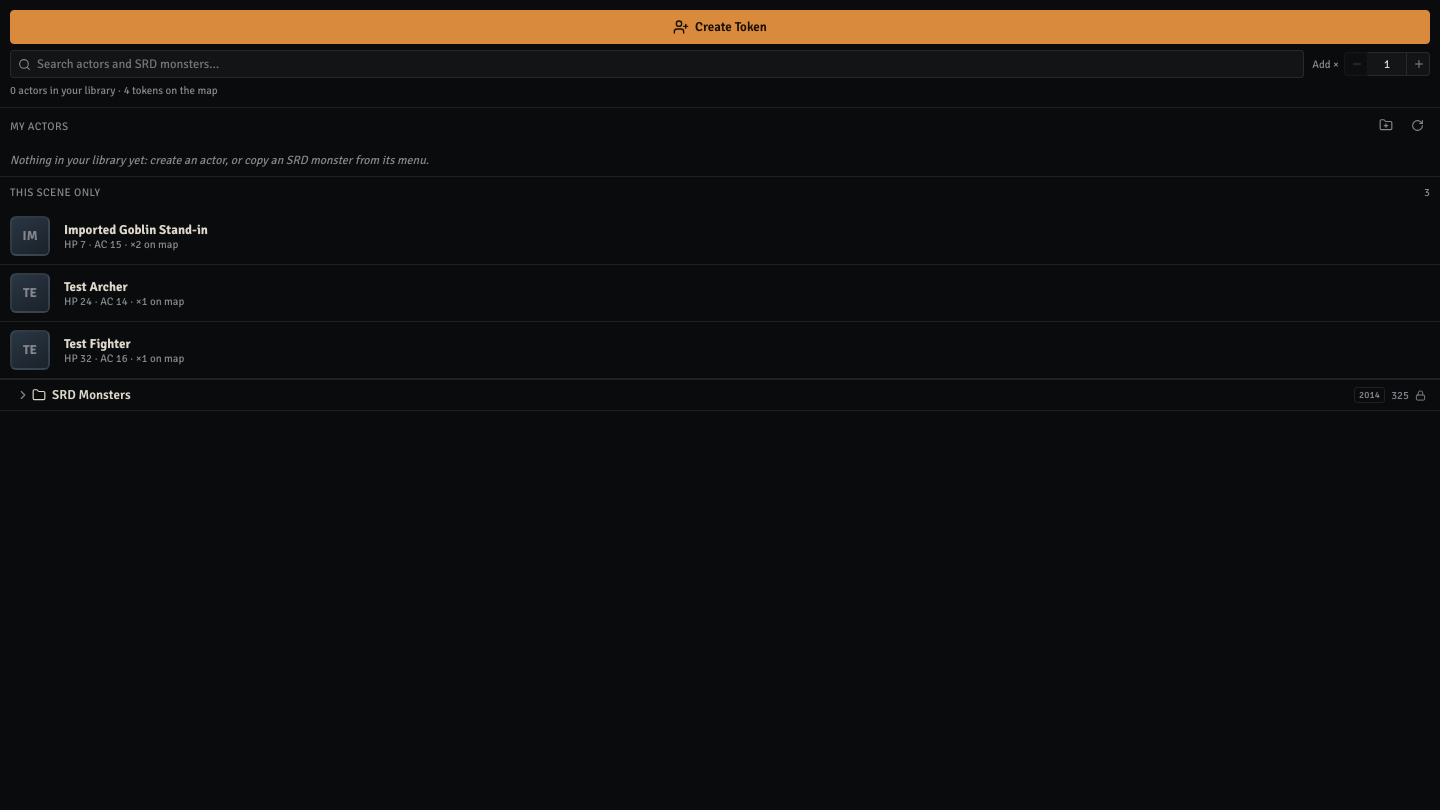
Test case: quantity stepper in the SRD Monsters folder › starts at 1, steps up and down, and stops at 1 and at the cap
The image size is (1440, 810).
Click the text "SRD Monsters". click: (91, 395)
box: [52, 387, 131, 403]
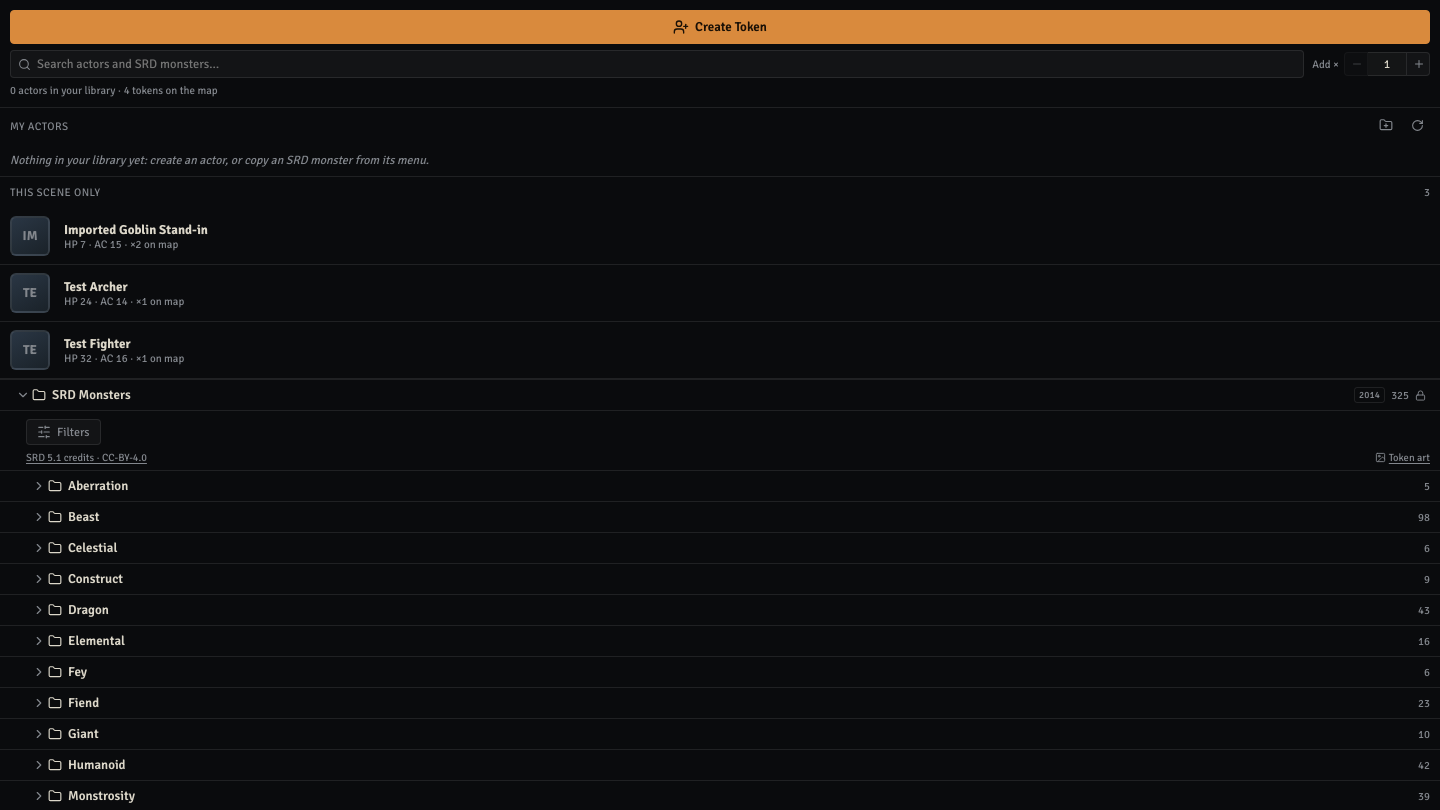
Click the text "Beast". click: (84, 517)
box: [68, 509, 100, 525]
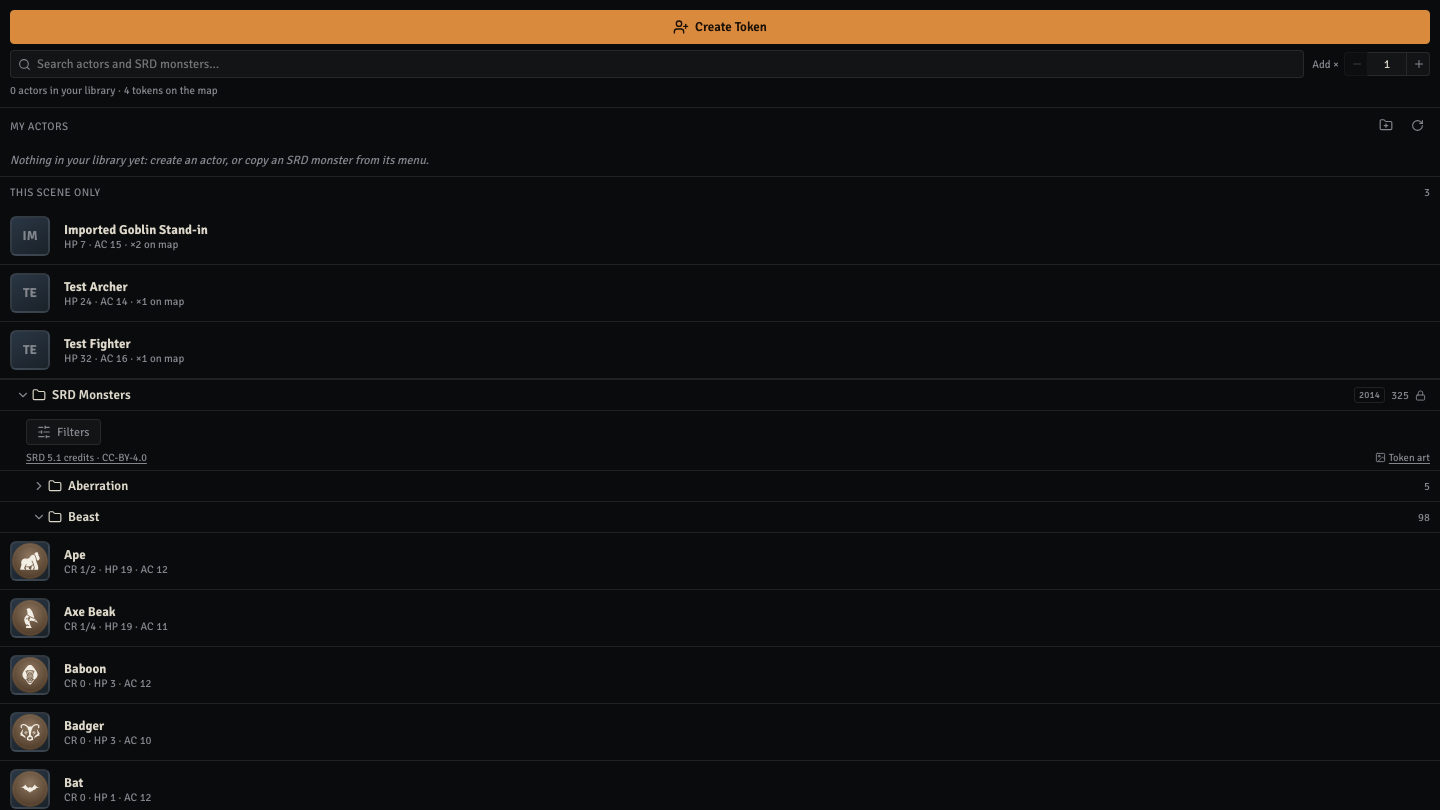
Expected: the number field named "Quantity to add" holds "1", [1368, 52, 1406, 76]
Expected: the button named "Decrease quantity" is disabled, [1344, 52, 1368, 76]
Click the button named "Increase quantity". click: (1418, 64)
box: [1406, 52, 1430, 76]
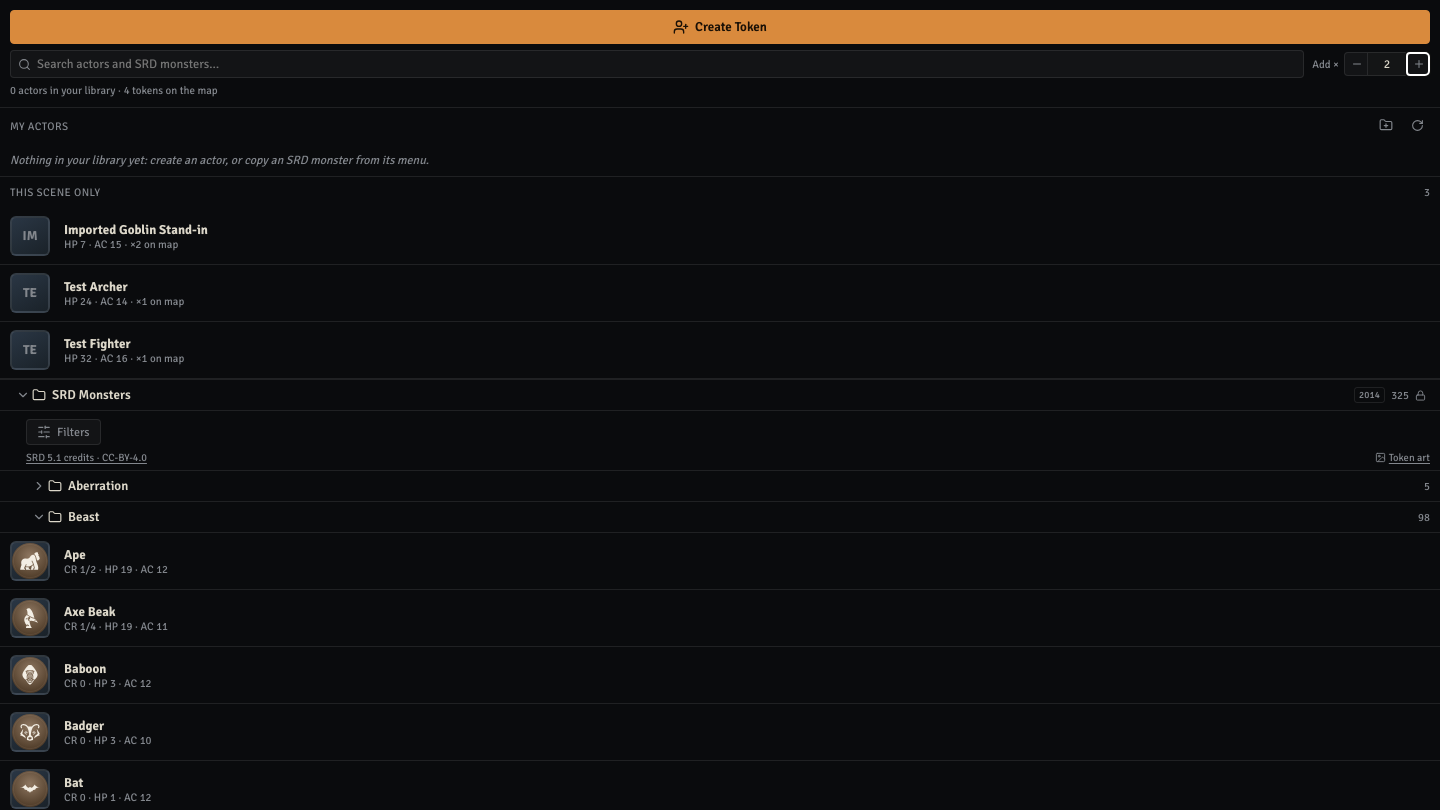
Click the button named "Increase quantity". click: (1418, 64)
box: [1406, 52, 1430, 76]
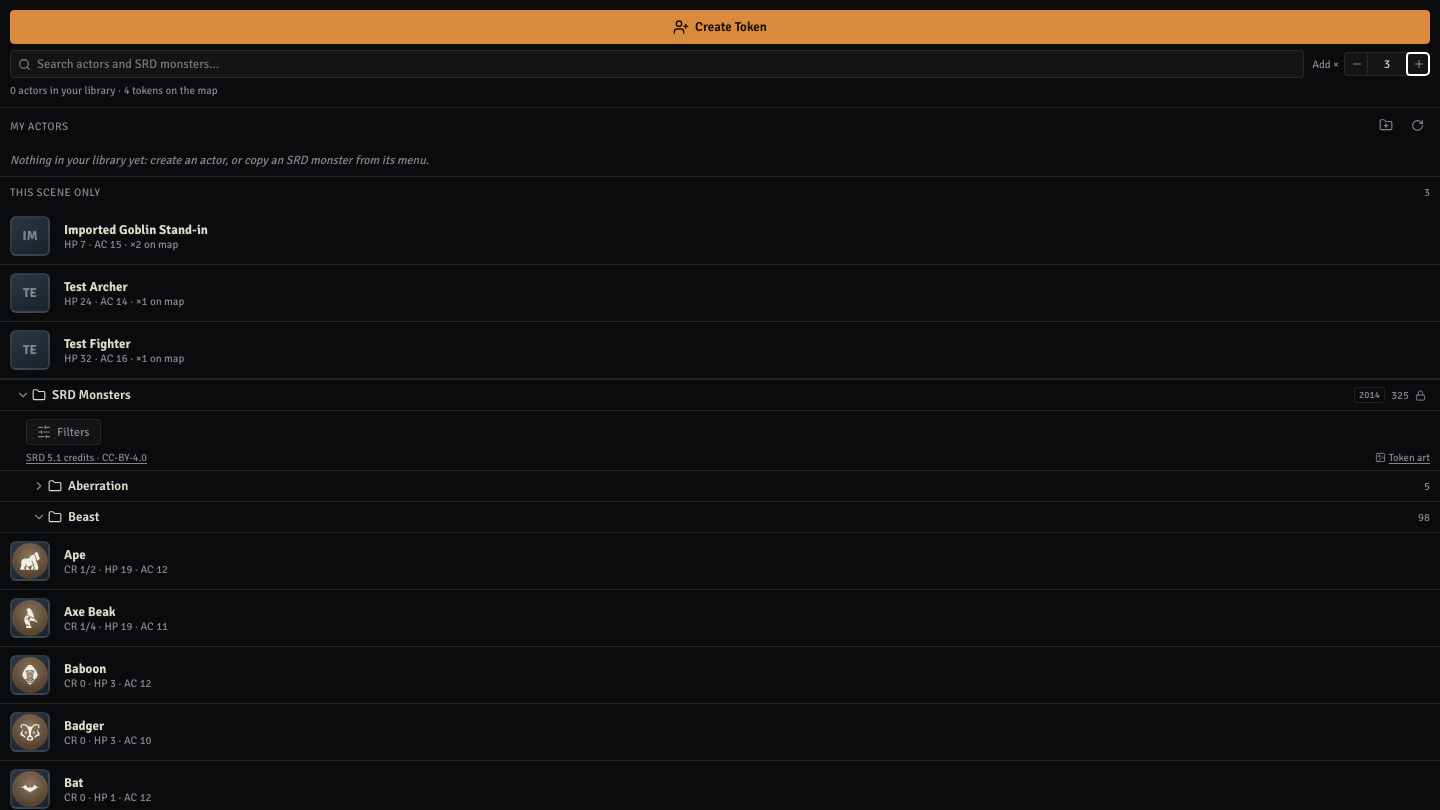
Expected: the number field named "Quantity to add" holds "3", [1368, 52, 1406, 76]
Click the button named "Decrease quantity". click: (1356, 64)
box: [1344, 52, 1368, 76]
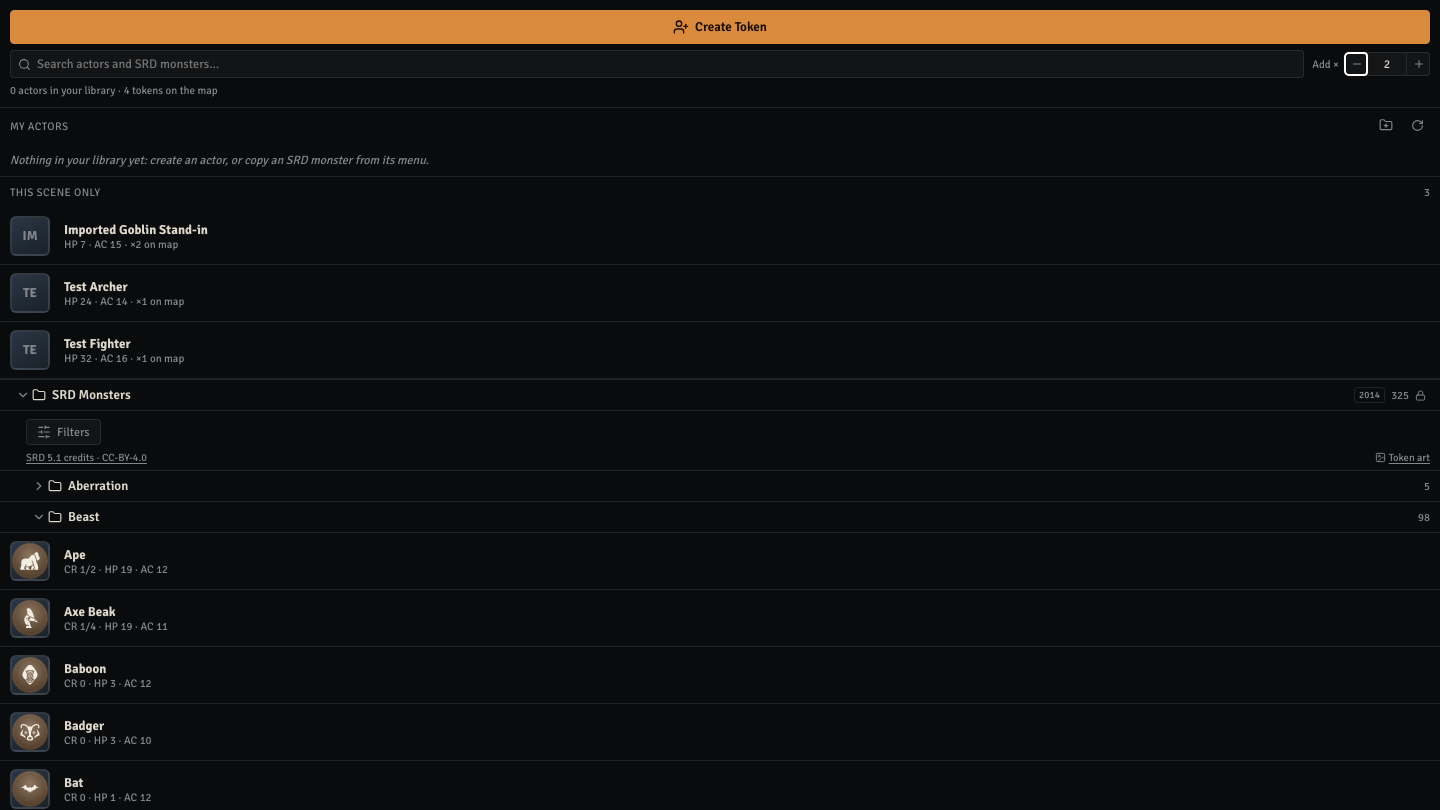
Expected: the number field named "Quantity to add" holds "2"
Replace the text in the number field named "Quantity to add" with "20". click: (1387, 64)
box: [1368, 52, 1406, 76]
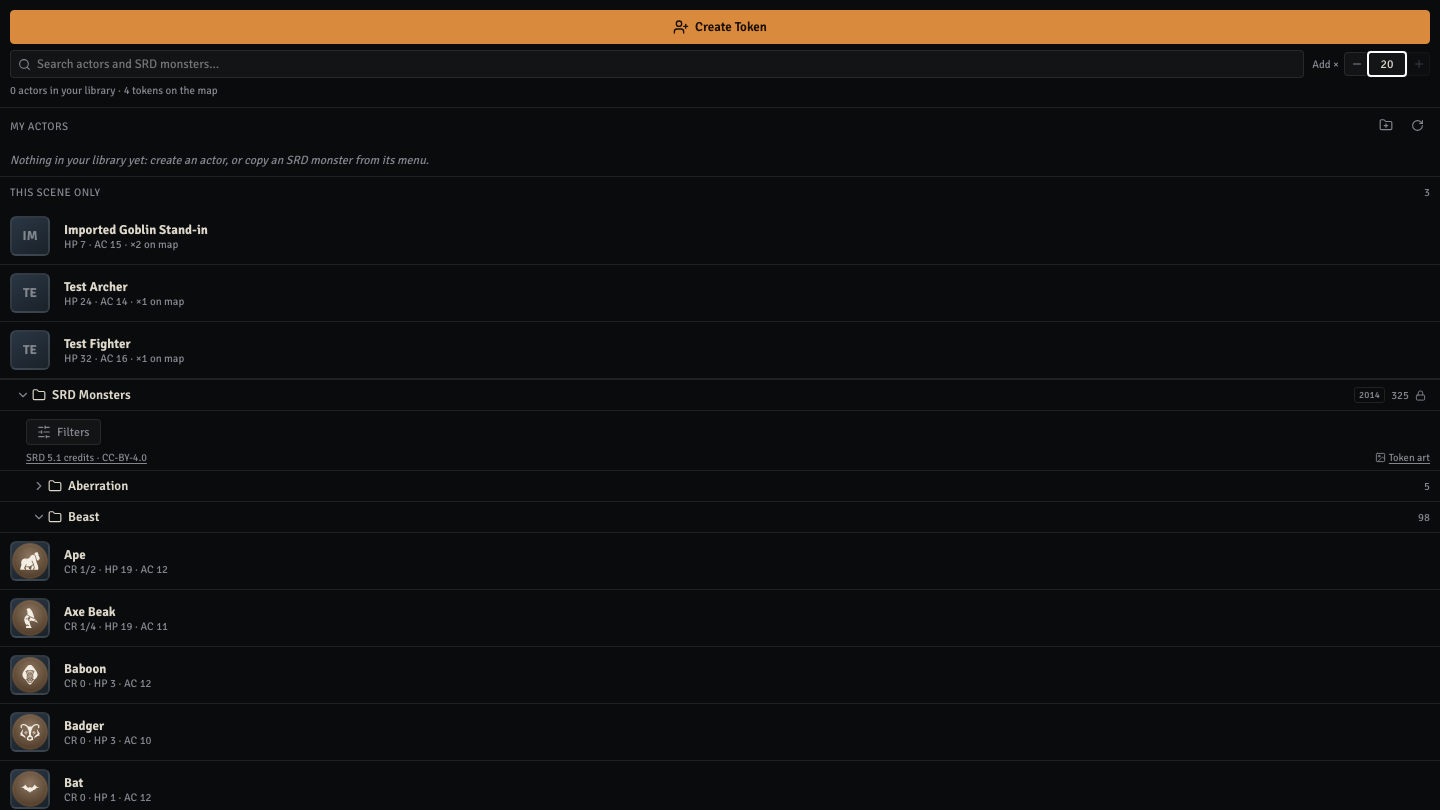
Expected: the button named "Increase quantity" is disabled, [1406, 52, 1430, 76]
